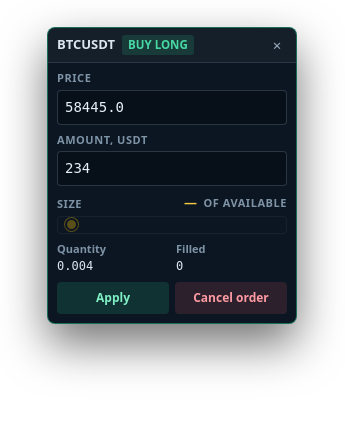
Scenario: FuturesOrderEditor › refuses an amount the exchange filters would reject
Replace the text in the field named "Order amount in USDT" with "1". click: [172, 168]
box: [57,151,287,186]
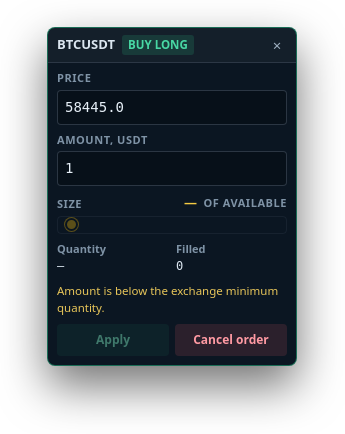
Expected: the button "Apply" is disabled, [57,324,169,356]
Expected: the message shows "below the exchange minimum", [57,283,278,315]
